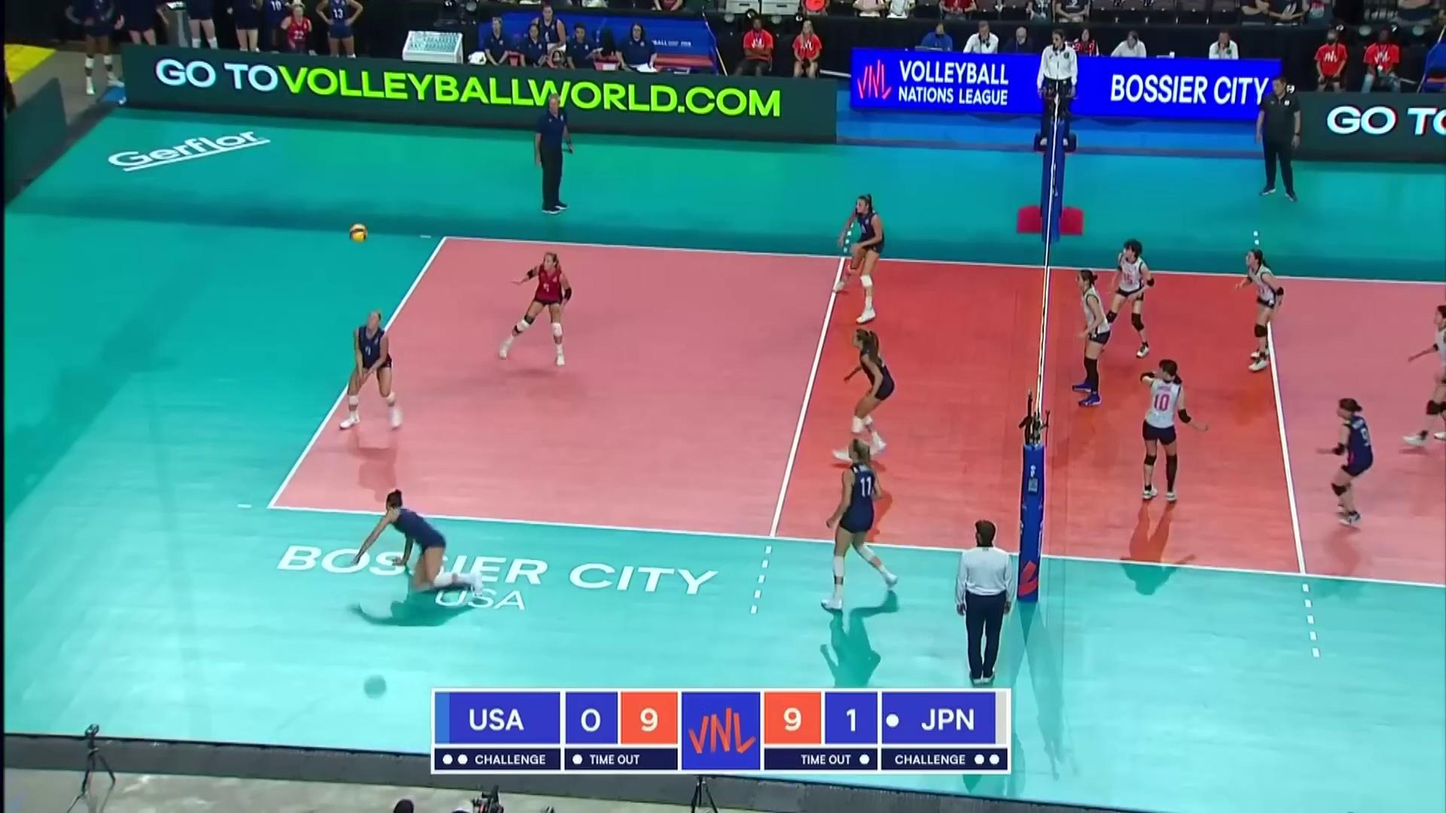player: (817, 442, 896, 612), (357, 491, 479, 591), (1138, 360, 1208, 502), (494, 252, 574, 367), (336, 310, 404, 432), (836, 324, 895, 461), (1313, 397, 1373, 526), (829, 195, 886, 323), (1101, 242, 1156, 361), (1404, 308, 1446, 452), (1070, 265, 1112, 407), (1238, 248, 1285, 371)
refree: (953, 522, 1017, 686), (1035, 27, 1077, 146)
